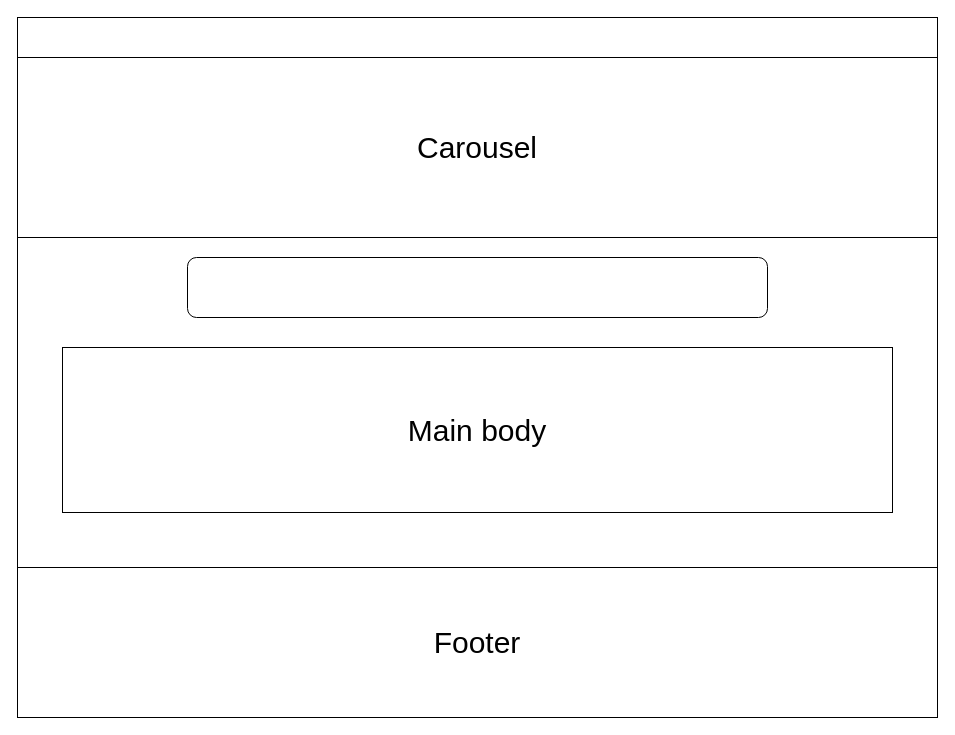
Image size: 955x735. Some labels were removed from this diagram. Each missing label, with the centre of its shape:
Nav bar: (477,37)
title: (477,287)
